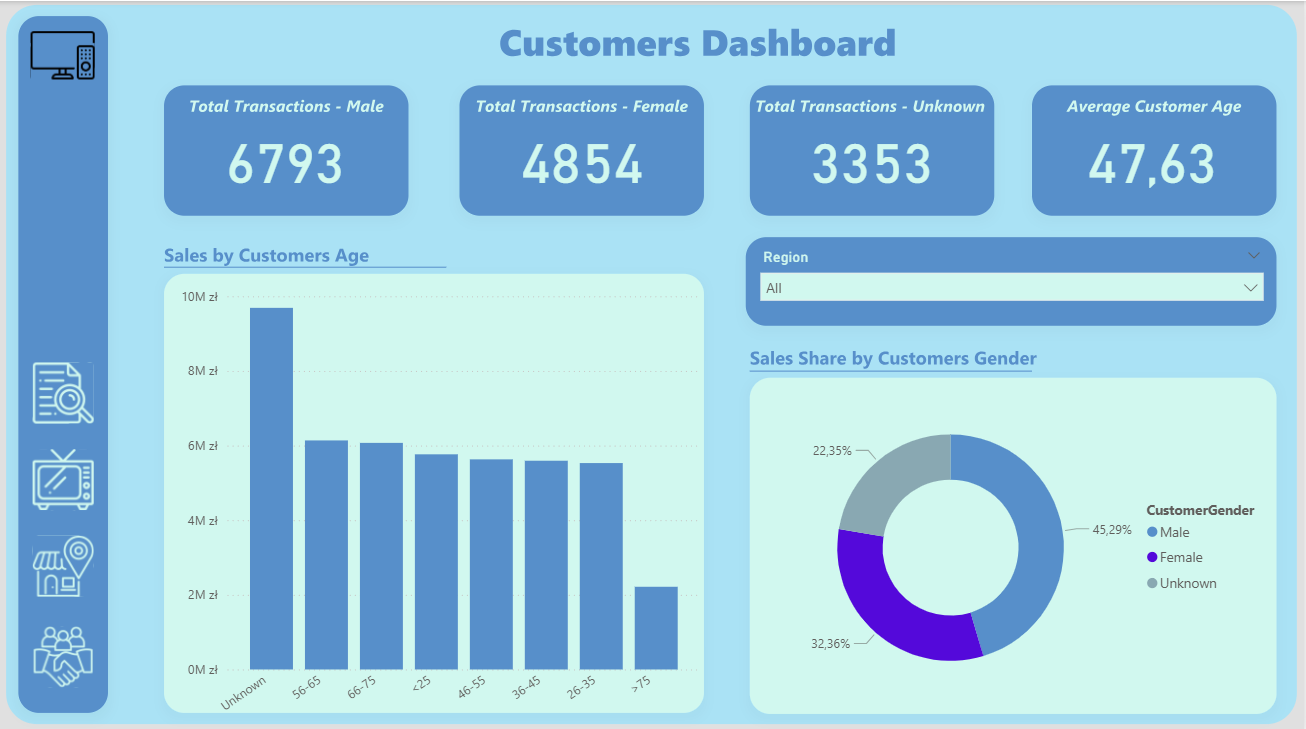

The dashboard page shown, as its layout file describes it:
{"tool":"powerbi","page":{"name":"Customers Dashboard","canvas":[1280,720],"ordinal":4},"visuals":[{"type":"card","fields":{"Values":["_Measures.Total Transactions"]},"box":[160,114.3,241.4,77.1],"z":0},{"type":"card","fields":{"Values":["_Measures.Total Transactions"]},"box":[450,114.3,242.9,77.1],"z":1000},{"type":"card","fields":{"Values":["_Measures.Total Transactions"]},"box":[735.7,114.3,240,77.1],"z":2000},{"type":"card","fields":{"Values":["_Measures.AVG Customer Age"]},"box":[1010,114.3,242.9,77.1],"z":3000},{"type":"clusteredColumnChart","fields":{"Category":["Sales_Transactions.Age Range"],"Y":["_Measures.Total Sales"]},"box":[172.9,275.7,520,444.3],"z":4000},{"type":"donutChart","fields":{"Y":["_Measures.Total Transactions"],"Category":["Sales_Transactions.CustomerGender"]},"box":[735.7,371.4,517.1,330],"z":5000},{"type":"slicer","fields":{"Values":["Dim_Stores.Region"]},"box":[735.7,238.6,513.8,80],"z":6000},{"type":"actionButton","box":[27.1,360,68.6,65.7],"z":7000},{"type":"actionButton","box":[27.1,441.4,68.6,74.3],"z":8000},{"type":"actionButton","box":[27.1,531.4,68.6,67.1],"z":9000},{"type":"actionButton","box":[27.1,611.4,68.6,68.6],"z":10000},{"type":"actionButton","box":[27.1,27.1,68.6,57.1],"z":11000}]}

Visuals, with their boxes in screenshot pixels (x1, y1, x2, y2), scaled from the page's 1280x720 canvas onto the 1306x729 screenshot:
card - _Measures.Total Transactions: (163,116,410,194)
card - _Measures.Total Transactions: (459,116,707,194)
card - _Measures.Total Transactions: (751,116,996,194)
card - _Measures.AVG Customer Age: (1031,116,1278,194)
clusteredColumnChart - Sales_Transactions.Age Range x _Measures.Total Sales: (176,279,707,728)
donutChart - _Measures.Total Transactions x Sales_Transactions.CustomerGender: (751,376,1278,710)
slicer - Dim_Stores.Region: (751,242,1275,323)
actionButton: (28,364,98,431)
actionButton: (28,447,98,522)
actionButton: (28,538,98,606)
actionButton: (28,619,98,688)
actionButton: (28,27,98,85)
